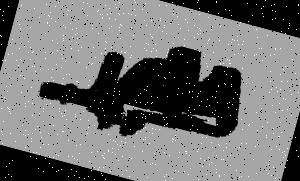SMG: (33, 15, 247, 162)
